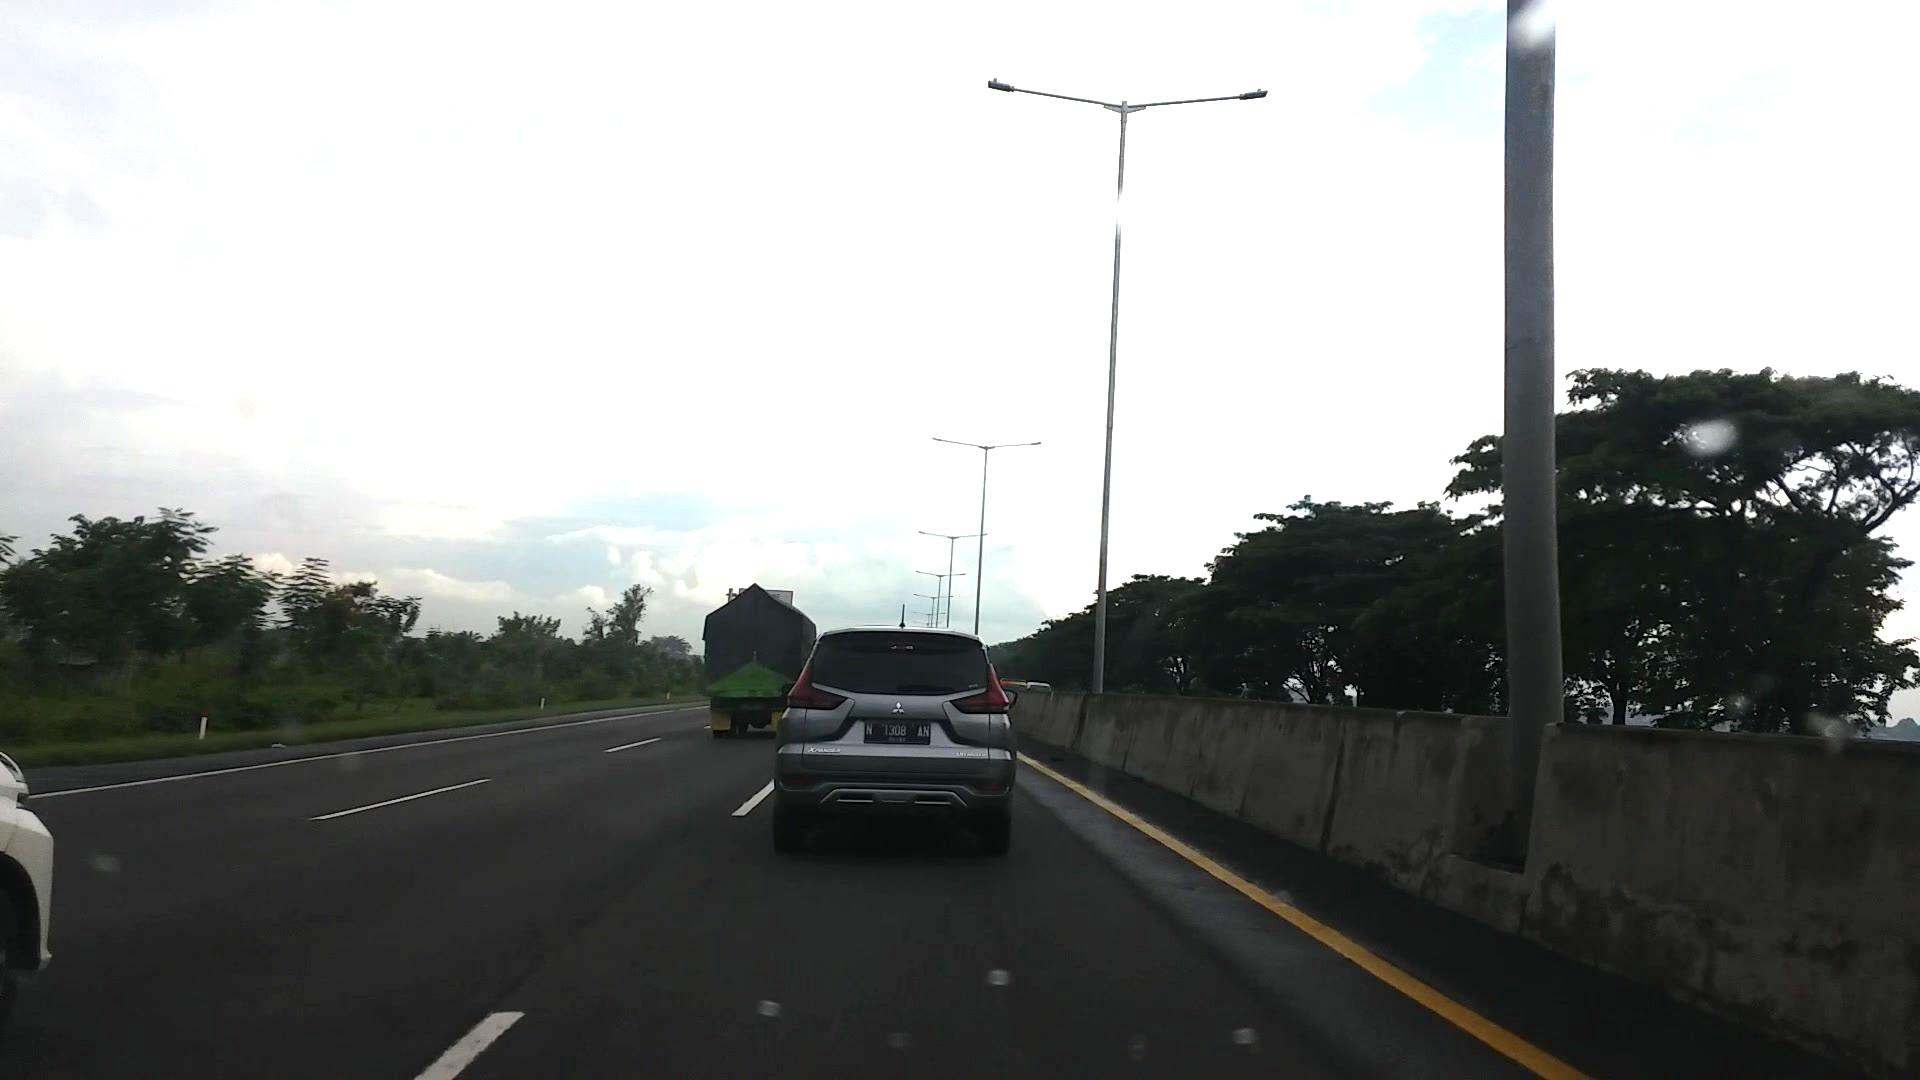plate_positive: (864, 720, 931, 744)
